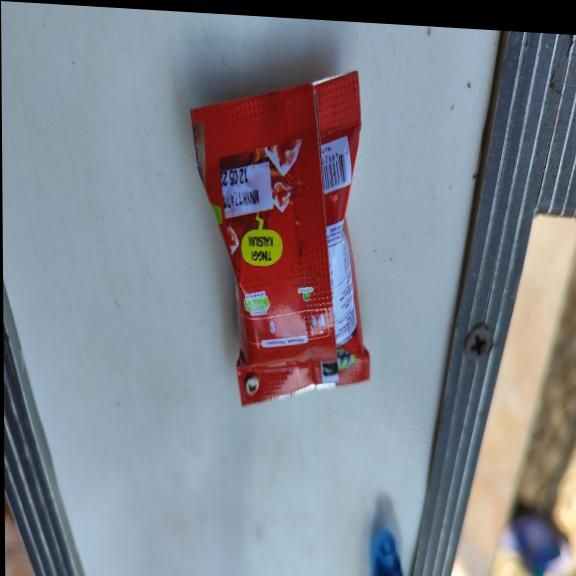Plastik: (188, 56, 370, 412)
